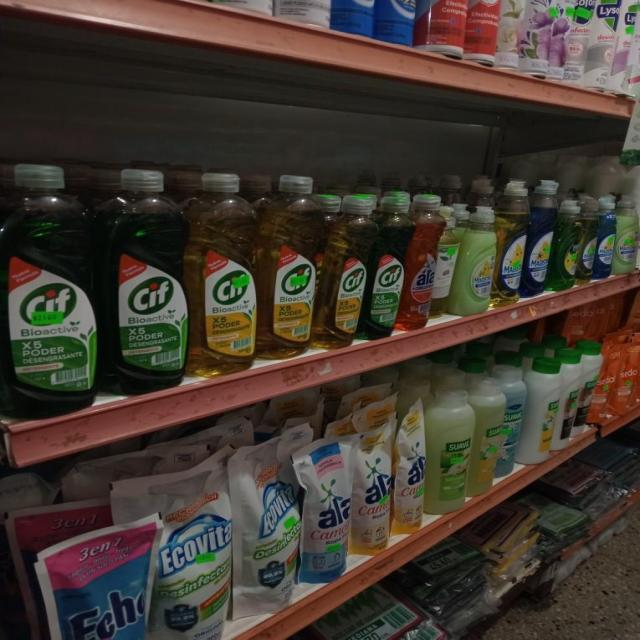cif_conc_bot_amarilla: (190, 170, 256, 377), (259, 173, 316, 360), (318, 189, 366, 349)
cif_conc_botella_verde: (0, 160, 99, 418), (101, 166, 187, 394), (366, 188, 405, 338)
magistral_con_azul: (526, 177, 552, 298), (596, 195, 614, 279)
